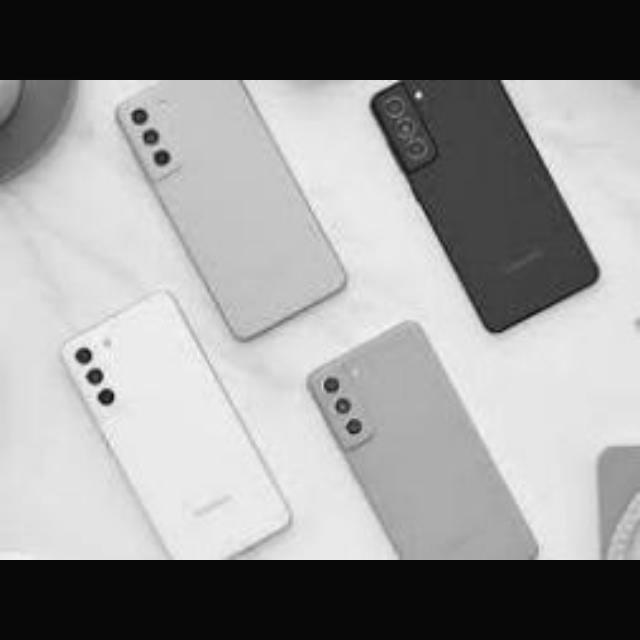fake: (282, 318, 590, 560), (94, 86, 380, 346), (38, 288, 302, 554), (364, 75, 601, 335)
